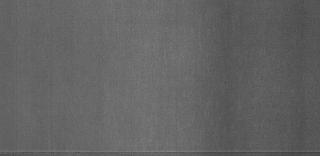welding line: (1, 148, 320, 154)
